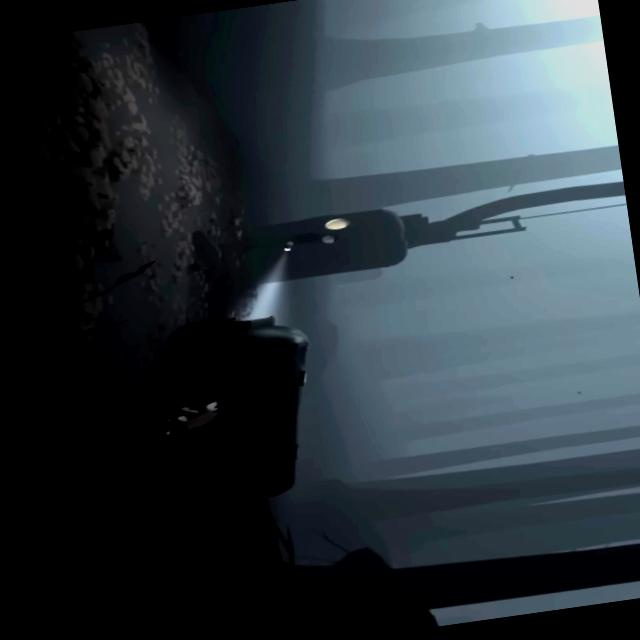boy: (157, 400, 230, 438)
